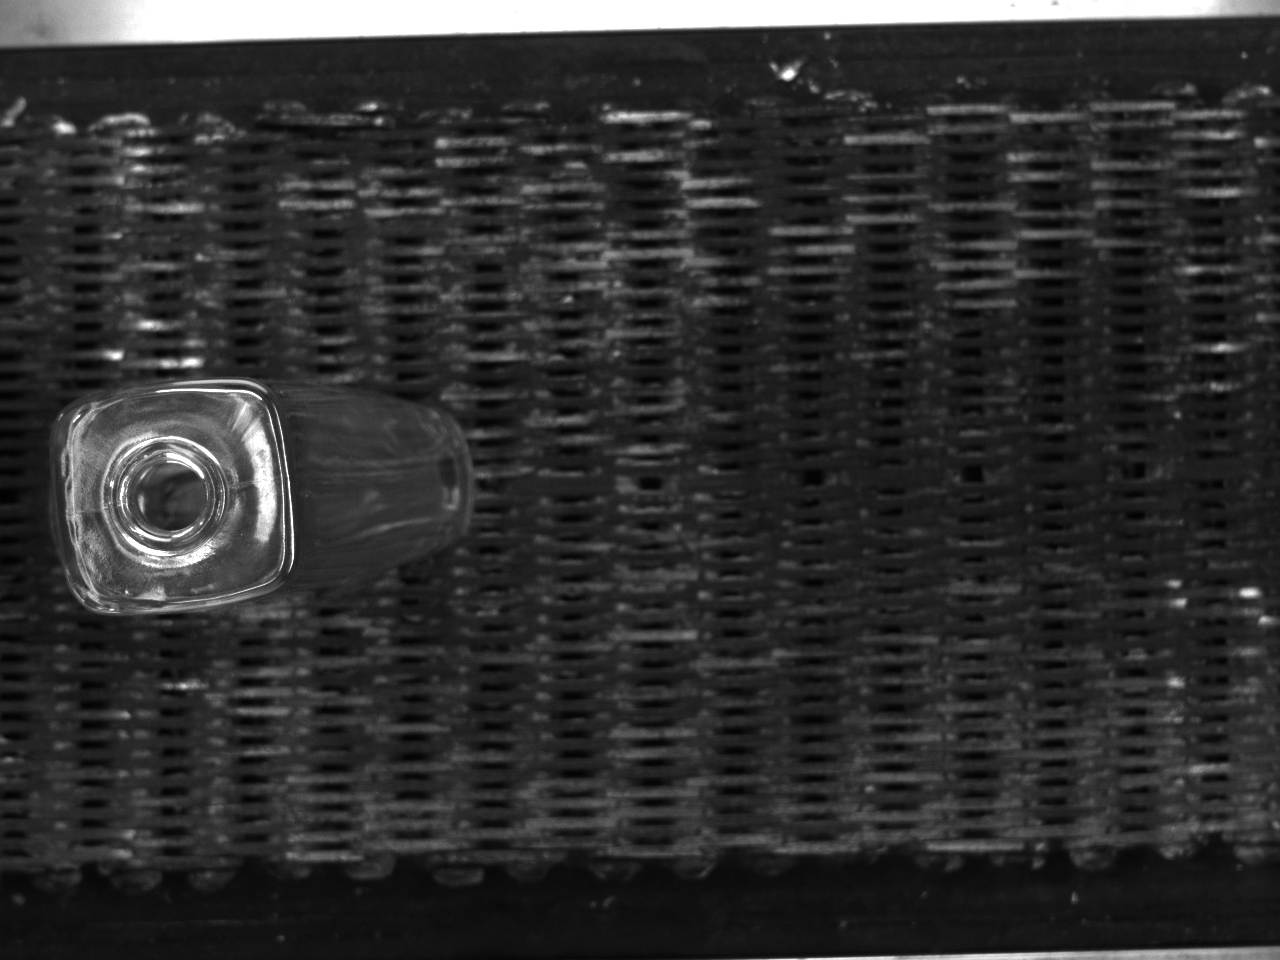bottleneck: (104, 436, 226, 556)
